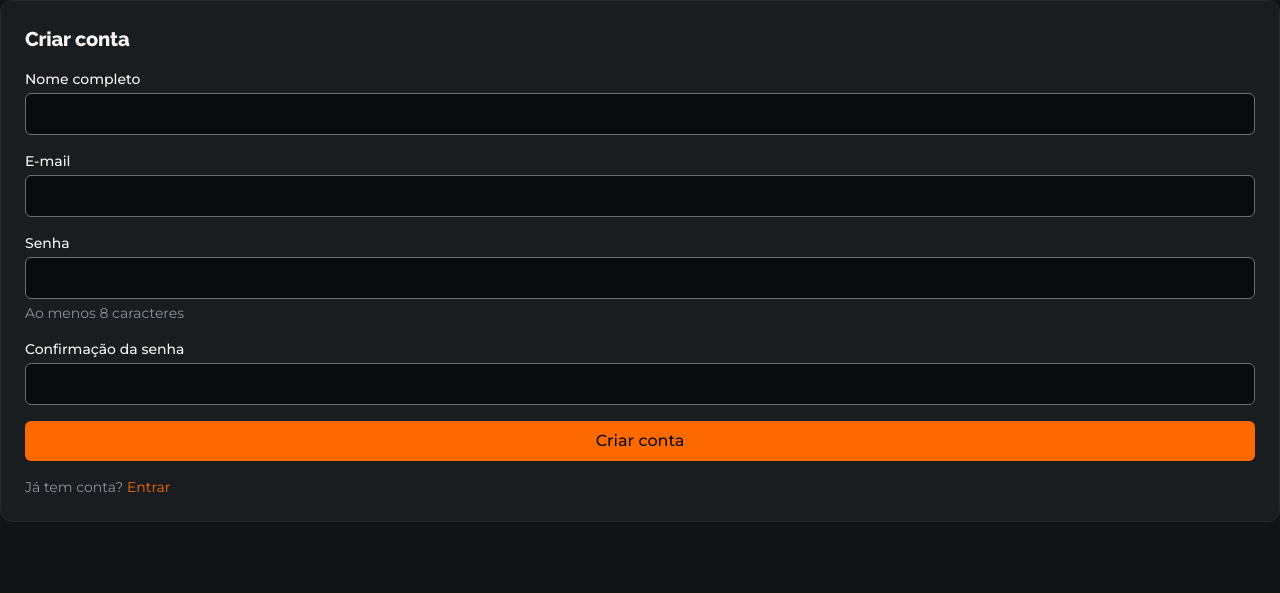
Test case: Cadastro › não navega quando o serviço recusa
This screenshot has width=1280, height=593.
Type "Joana Silva" into the field labelled "Nome completo".
click(640, 114); type("Joana Silva")  # box [25,93,1255,135]
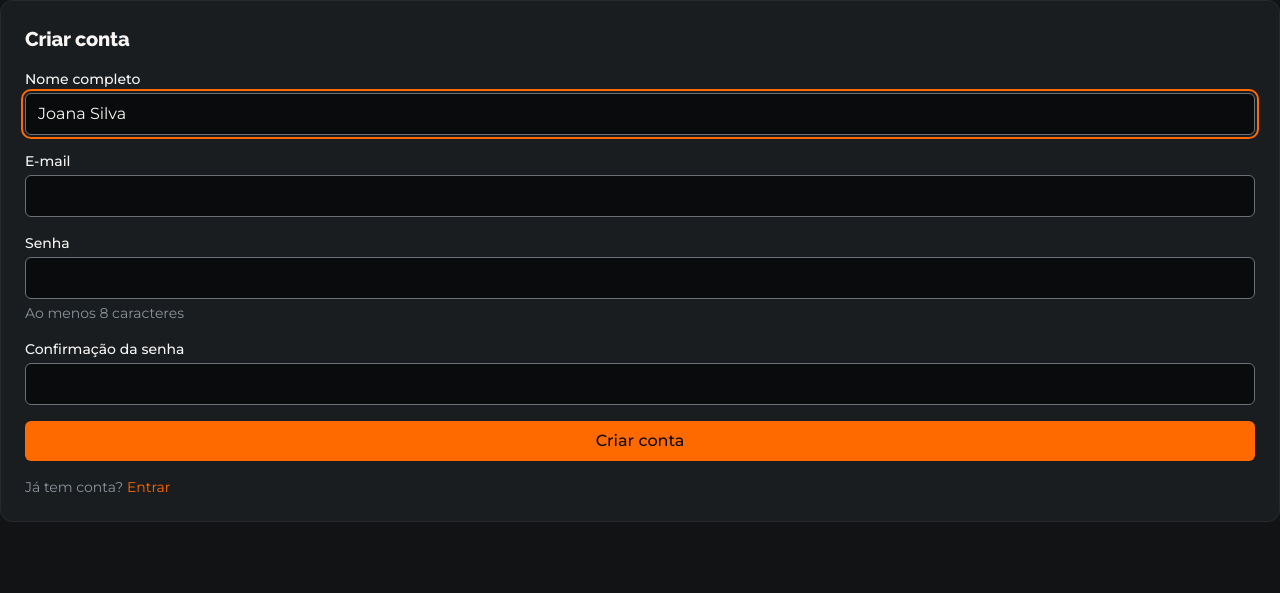
Type "joana@exemplo.com" into the field labelled "E-mail".
click(640, 196); type("joana@exemplo.com")  # box [25,175,1255,217]
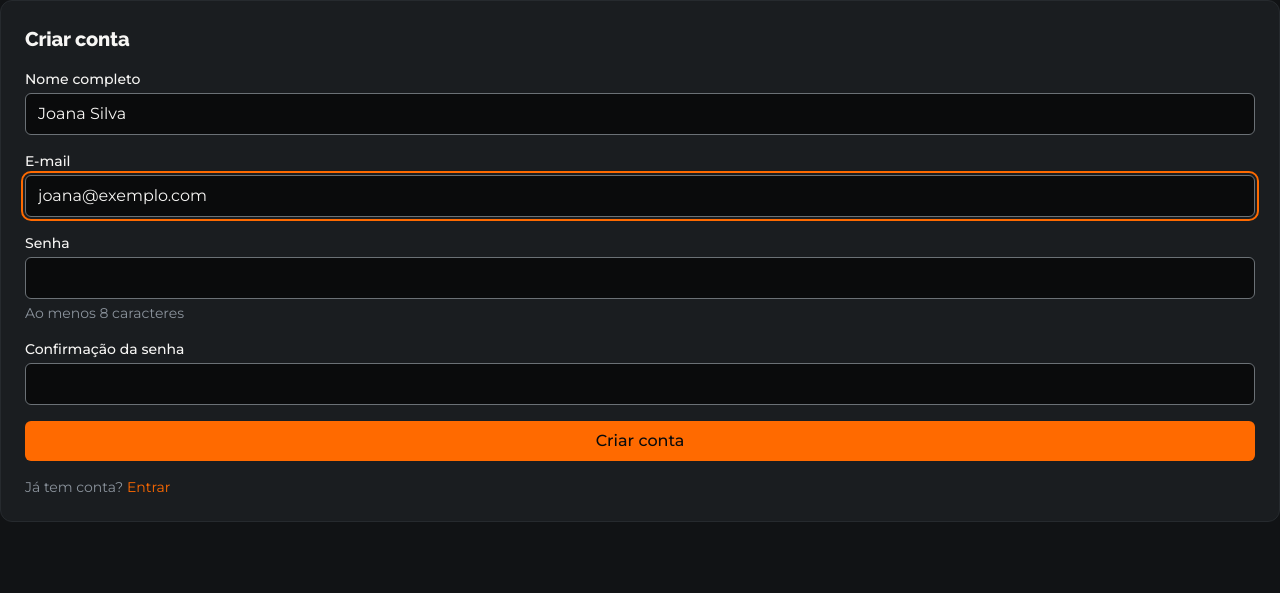
Type "senha-valida-123" into the password field labelled "Senha".
click(640, 278); type("senha-valida-123")  # box [25,257,1255,299]
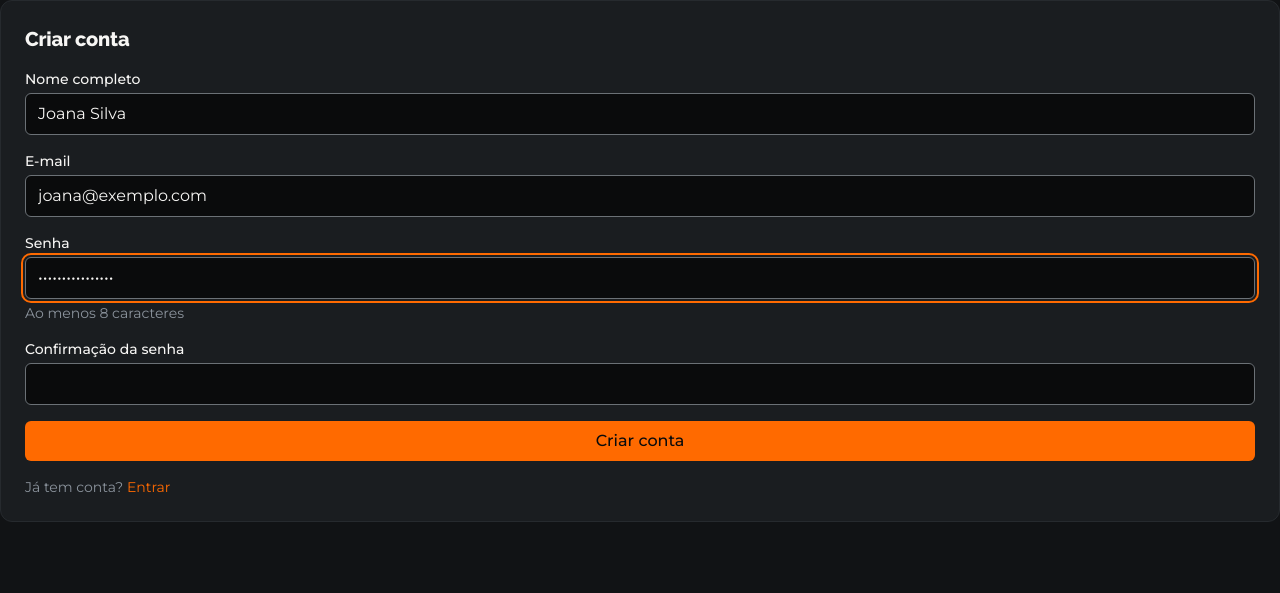
Type "senha-valida-123" into the password field labelled "Confirmação da senha".
click(640, 384); type("senha-valida-123")  # box [25,363,1255,405]
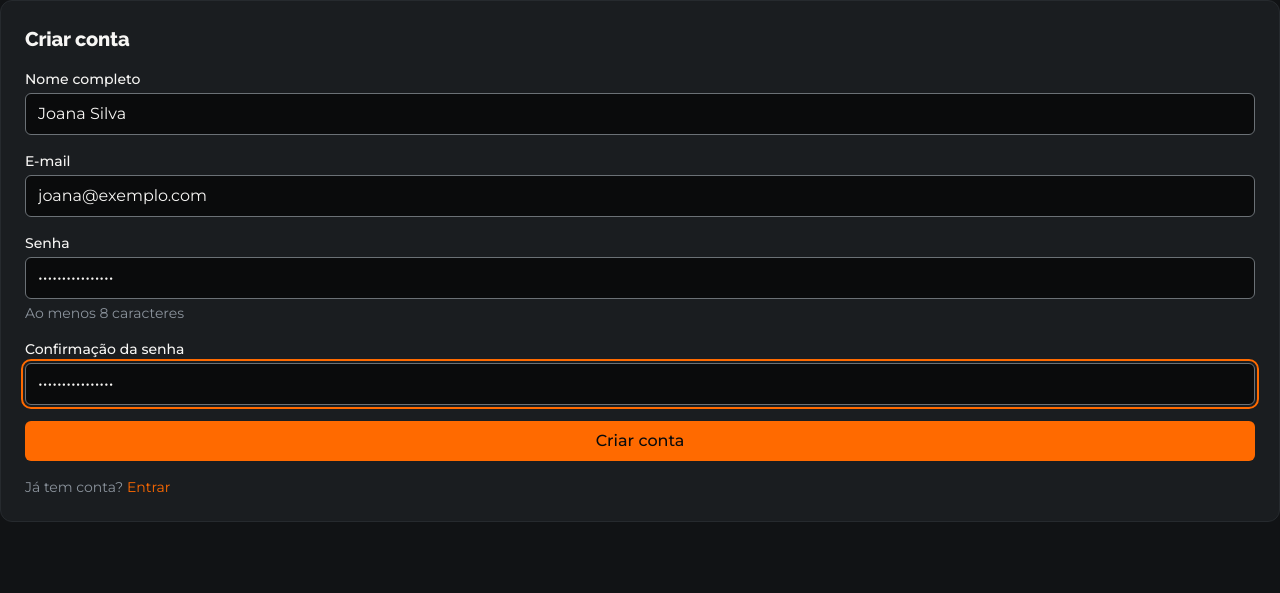
Click the button "Criar conta".
click(640, 441)  # box [25,421,1255,461]
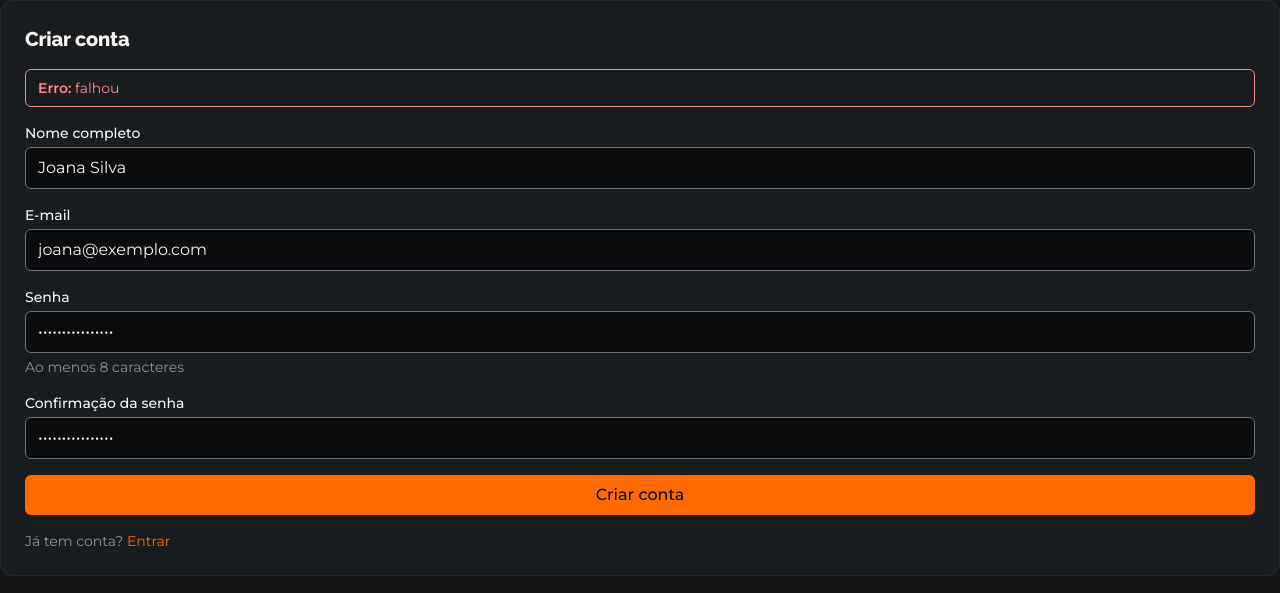
Expected: the message "Erro: falhou" is shown, [25,69,1255,107]
